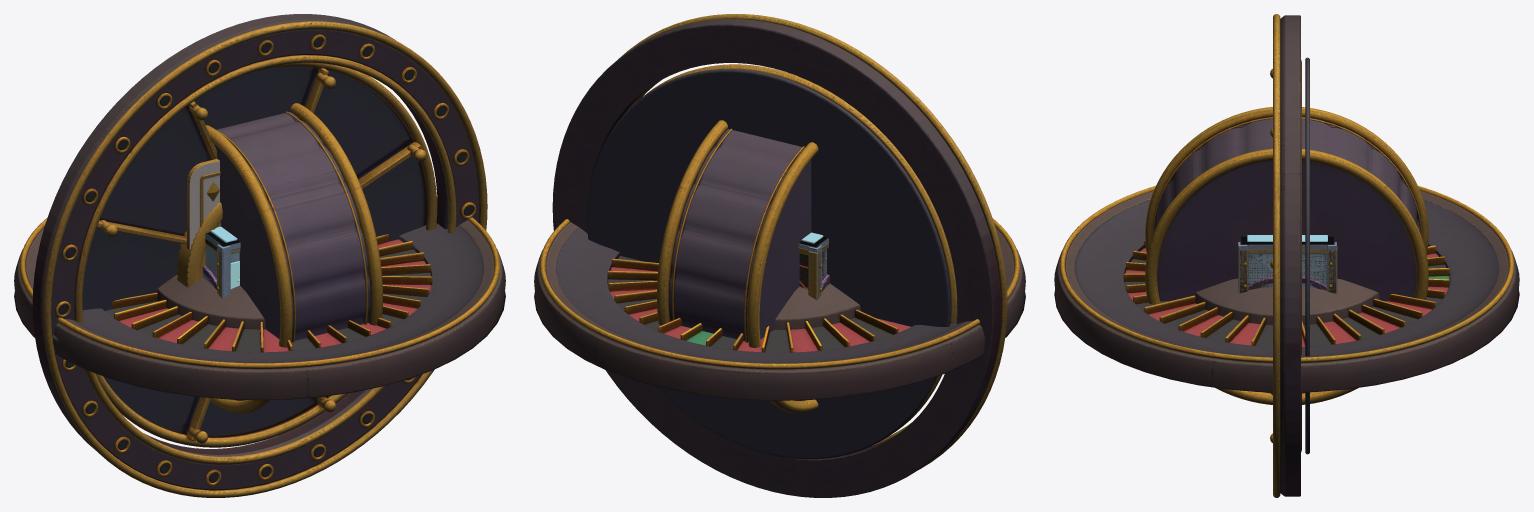
File: CasinoKit.glb
3 renders of one model, left to right at view 1: azimuth 30°, elevation 25°; view 2: azimuth 150°, elevation 25°; view 3: azimuth 270°, elevation 25°, orthographic. The views are drawn at different scales.
Parts seen in each view (by area): view 1: Casino_PrizeFrame, Casino_Wheel, Casino_PrizeFace, Casino_Drum, Casino_Card, Casino_Coin, Crate_Frost_Body; view 2: Casino_PrizeFace, Casino_PrizeFrame, Casino_Wheel, Casino_Drum, Crate_Classic_Body, Crate_Frost_Body; view 3: Casino_Wheel, Casino_Drum, Casino_PrizeFrame, Casino_PrizeFace, Crate_Frost_Body, Crate_Celestial_Body, Crate_Classic_Body, Crate_Molten_Body.
Boxes of the visible parts, x1,y1,x2,y2 form: Casino_PrizeFrame: [32, 14, 487, 497]; Casino_Wheel: [14, 196, 505, 400]; Casino_PrizeFace: [82, 62, 437, 447]; Casino_Drum: [200, 103, 382, 413]; Casino_Card: [187, 159, 220, 249]; Casino_Coin: [176, 202, 222, 287]; Crate_Frost_Body: [205, 226, 240, 298]; Casino_PrizeFace: [587, 64, 957, 459]; Casino_PrizeFrame: [552, 14, 1007, 497]; Casino_Wheel: [534, 218, 1025, 400]; Casino_Drum: [657, 120, 818, 413]; Crate_Classic_Body: [798, 248, 826, 299]; Crate_Frost_Body: [798, 232, 828, 295]; Casino_Wheel: [1054, 186, 1519, 392]; Casino_Drum: [1145, 107, 1428, 404]; Casino_PrizeFrame: [1273, 14, 1300, 497]; Casino_PrizeFace: [1270, 57, 1309, 454]; Crate_Frost_Body: [1238, 235, 1336, 293]; Crate_Celestial_Body: [1239, 240, 1337, 293]; Crate_Classic_Body: [1239, 249, 1336, 293]; Crate_Molten_Body: [1240, 249, 1335, 293].
Bounding box in the file's own units: 5.99 × 5.99 × 5.76.
31 materials, 30 textured.
